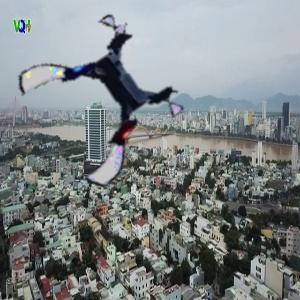drone: (31, 30, 178, 177)
